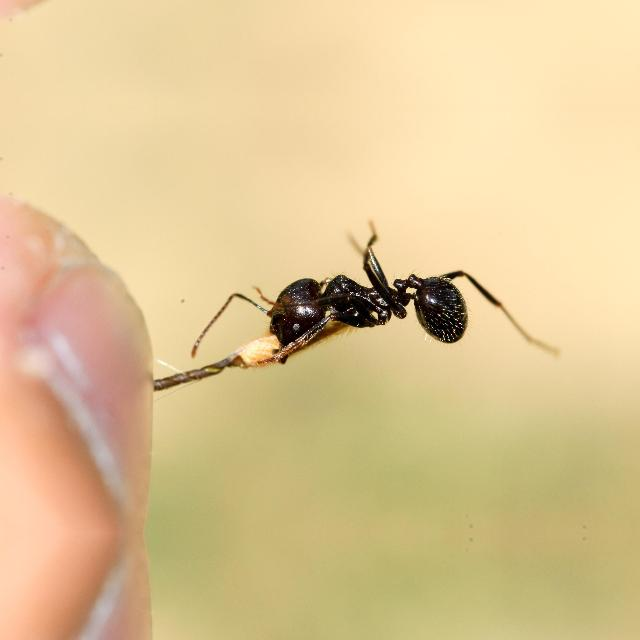Messor: (244, 244, 480, 378)
